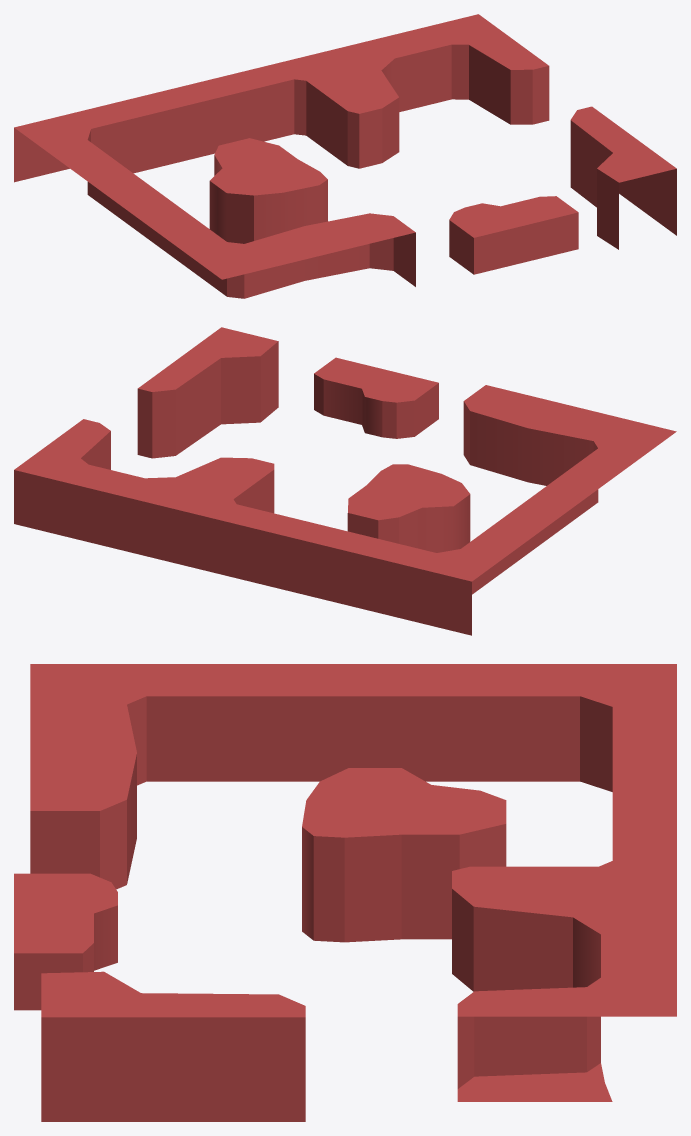
Rendered from LeftTop_Colliders 1.fbx.
3 views of the same model, one above another, from view 1: azimuth 30°, elevation 25°; view 2: azimuth 150°, elevation 25°; view 3: azimuth 270°, elevation 25° (orthographic). The views are drawn at different scales.
Parts seen in each view (by area): view 1: Colliders1_pCube4; view 2: Colliders1_pCube4; view 3: Colliders1_pCube4.
Boxes of the visible parts, x1=… form: Colliders1_pCube4: x1=14, y1=14, x2=676, y2=298; Colliders1_pCube4: x1=14, y1=327, x2=676, y2=635; Colliders1_pCube4: x1=14, y1=664, x2=676, y2=1121.
Bounding box in the file's own units: 1770 × 298 × 1407.
